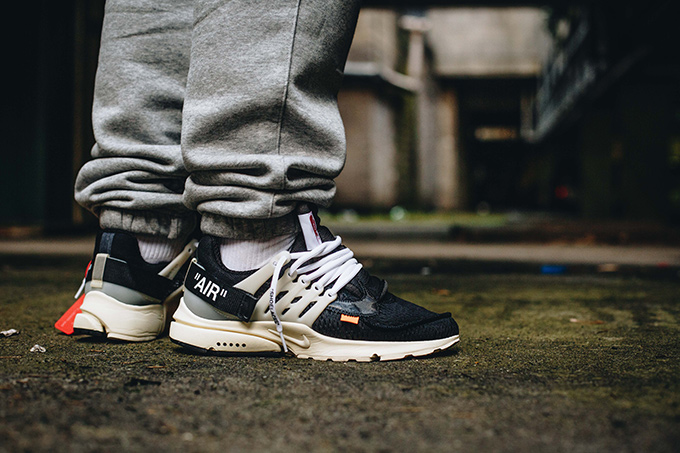Nike x OFF--WHITE Air Presto OG: (178, 208, 467, 367)
